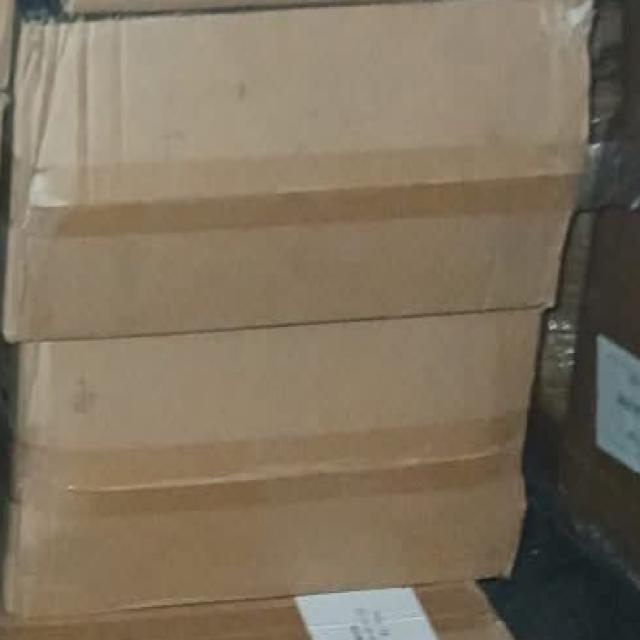carton_box: (4, 2, 609, 347), (4, 292, 563, 640)
package_damage: (504, 442, 538, 586)
